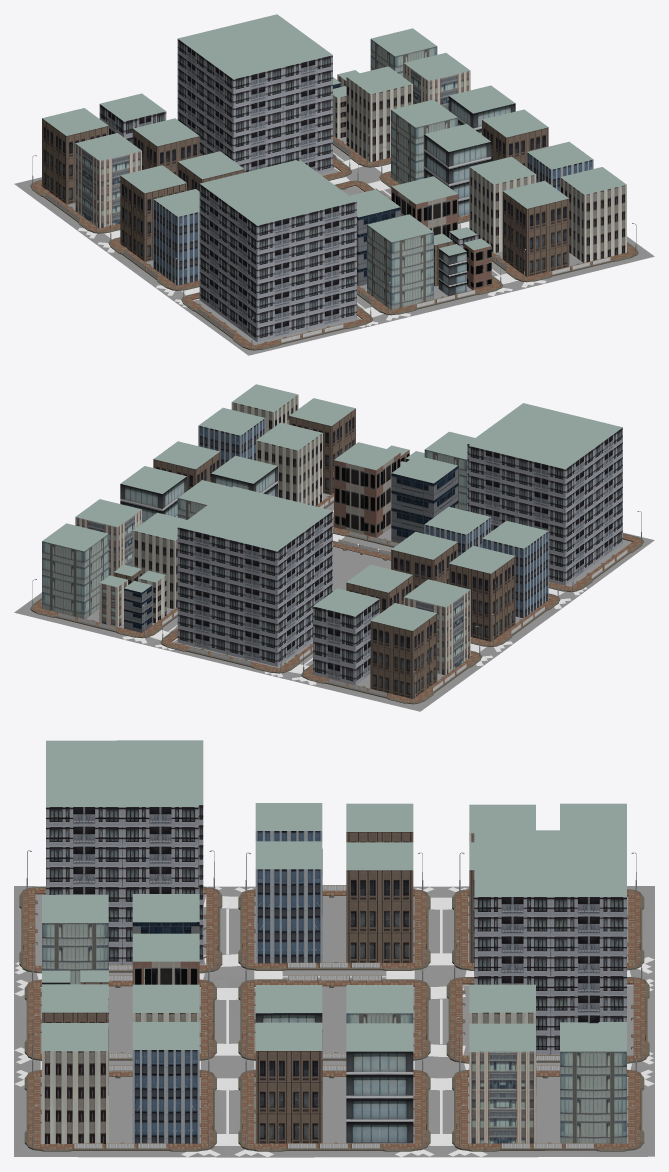
The model's file is Stage2.fbx.
The picture shows the model from 3 angles, top to bottom: view 1: azimuth 30°, elevation 25°; view 2: azimuth 150°, elevation 25°; view 3: azimuth 270°, elevation 25°; orthographic projection. The views are drawn at different scales.
Parts seen in each view (by area): view 1: modern_from_grid; view 2: modern_from_grid; view 3: modern_from_grid.
Boxes of the visible parts, bbox=[...] form: modern_from_grid: bbox=[14, 14, 654, 355]; modern_from_grid: bbox=[14, 384, 654, 711]; modern_from_grid: bbox=[14, 740, 654, 1157].
Bounding box in the file's own units: 5000 × 1375 × 5000.
16 materials, 12 textured.
